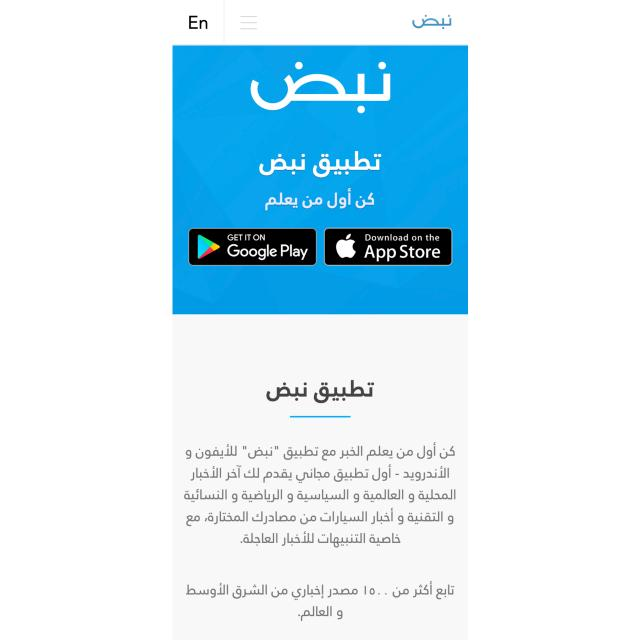logo: (408, 11, 457, 34), (195, 232, 221, 262), (335, 232, 358, 261)
navigation: (237, 10, 263, 34)
